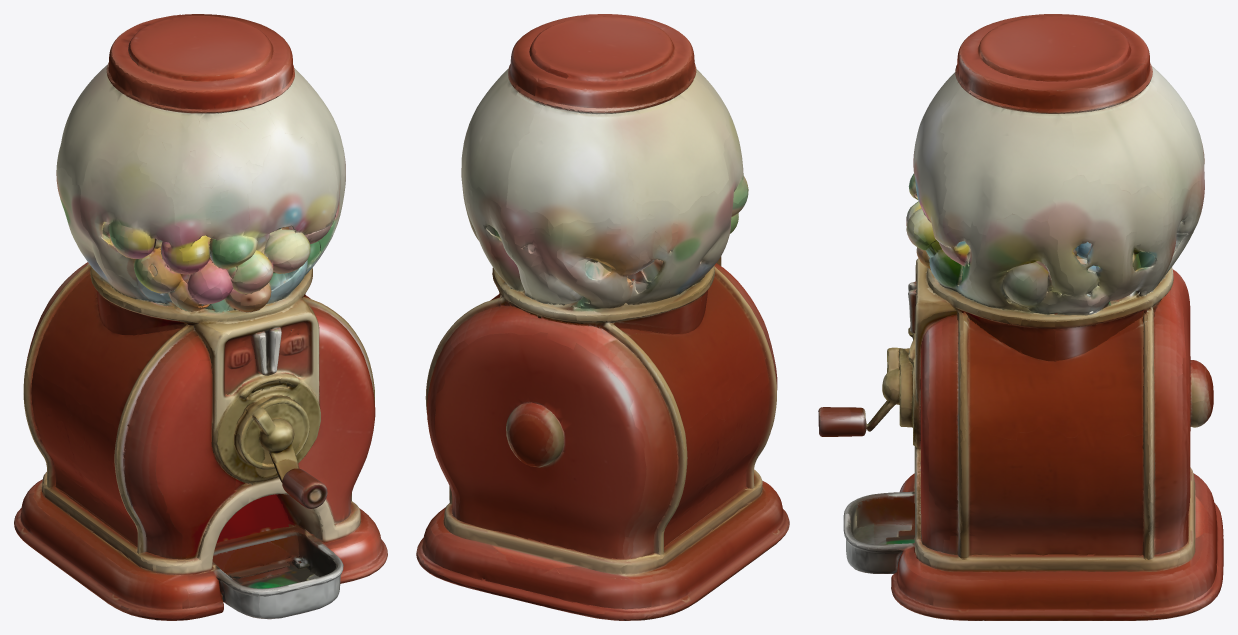
The model's file is gacha-machine.glb.
The picture shows the model from 3 angles, left to right: view 1: azimuth 30°, elevation 25°; view 2: azimuth 150°, elevation 25°; view 3: azimuth 270°, elevation 25°; orthographic projection. The views are drawn at different scales.
Parts seen in each view (by area): view 1: geometry_0; view 2: geometry_0; view 3: geometry_0.
Part boxes in pixels (bbox=[...]): geometry_0: bbox=[14, 14, 387, 620]; geometry_0: bbox=[416, 14, 789, 620]; geometry_0: bbox=[818, 14, 1223, 620].
Bounding box in the file's own units: 0.2144 × 0.38 × 0.2733.
Materials: 1 (1 with a texture image).
